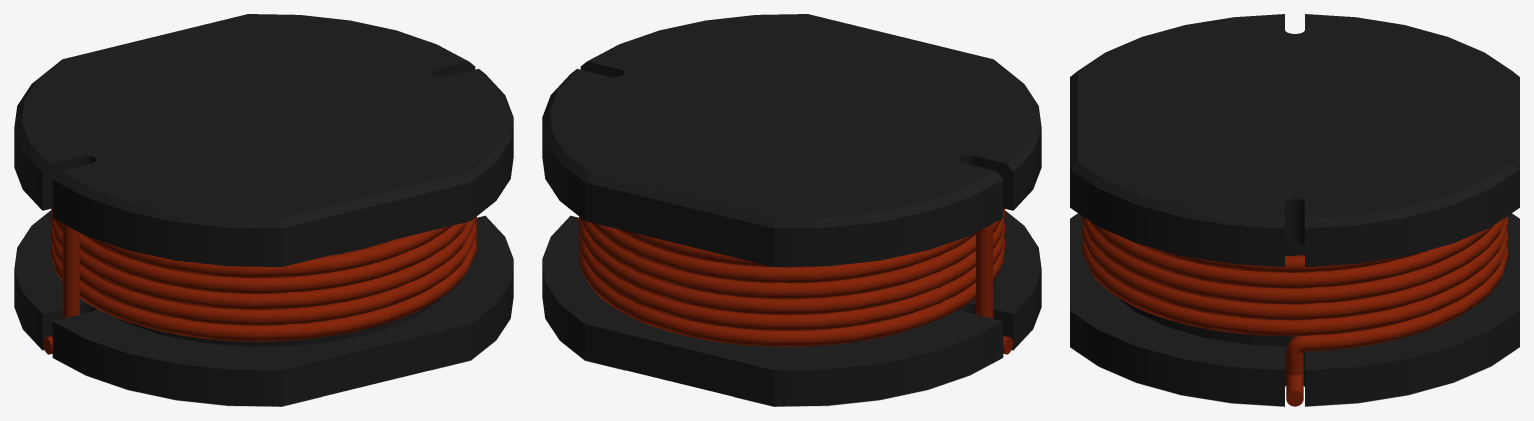
File: CDRH104.glb
3 views of the same model, side by side, from view 1: azimuth 30°, elevation 25°; view 2: azimuth 150°, elevation 25°; view 3: azimuth 270°, elevation 25° (orthographic).
Parts seen in each view (by area): view 1: Top_Chamfer_Solid, Foundation_Solid, Wire5, Cylinder, Wire8; view 2: Top_Chamfer_Solid, Foundation_Solid, Wire5, Wire8; view 3: Top_Chamfer_Solid, Wire5, Foundation_Solid, Cylinder, Wire1, Pinouts_Solid.
Part boxes in pixels (box(x1,y1,x2,y2)): Top_Chamfer_Solid: box(14, 14, 513, 266); Foundation_Solid: box(14, 210, 513, 406); Wire5: box(50, 208, 476, 341); Cylinder: box(117, 241, 442, 346); Wire8: box(62, 225, 79, 318); Top_Chamfer_Solid: box(542, 14, 1041, 266); Foundation_Solid: box(542, 211, 1041, 406); Wire5: box(578, 208, 1005, 346); Wire8: box(976, 225, 993, 318); Top_Chamfer_Solid: box(1070, 14, 1519, 267); Wire5: box(1082, 216, 1508, 351); Foundation_Solid: box(1070, 213, 1519, 406); Cylinder: box(1113, 244, 1304, 346); Wire1: box(1286, 375, 1303, 406); Pinouts_Solid: box(1070, 347, 1519, 406).
Bounding box in the file's own units: 0.01 × 0.00409 × 0.009.
